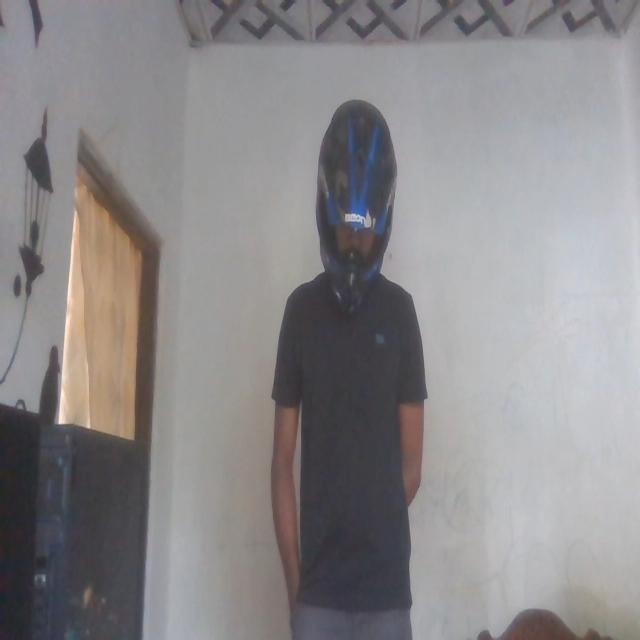Helmet_Wearer: (310, 94, 396, 327)
Person: (271, 101, 435, 640)
